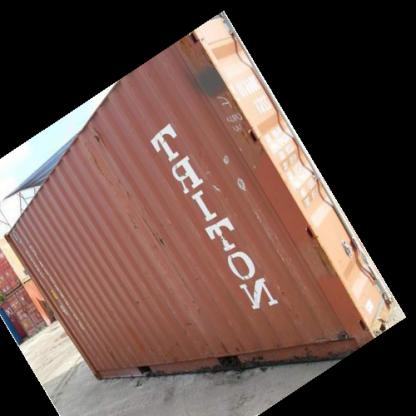Damage: (190, 338, 258, 372), (296, 324, 356, 360), (220, 141, 250, 201), (212, 85, 247, 135), (139, 209, 167, 250), (90, 116, 114, 144)
